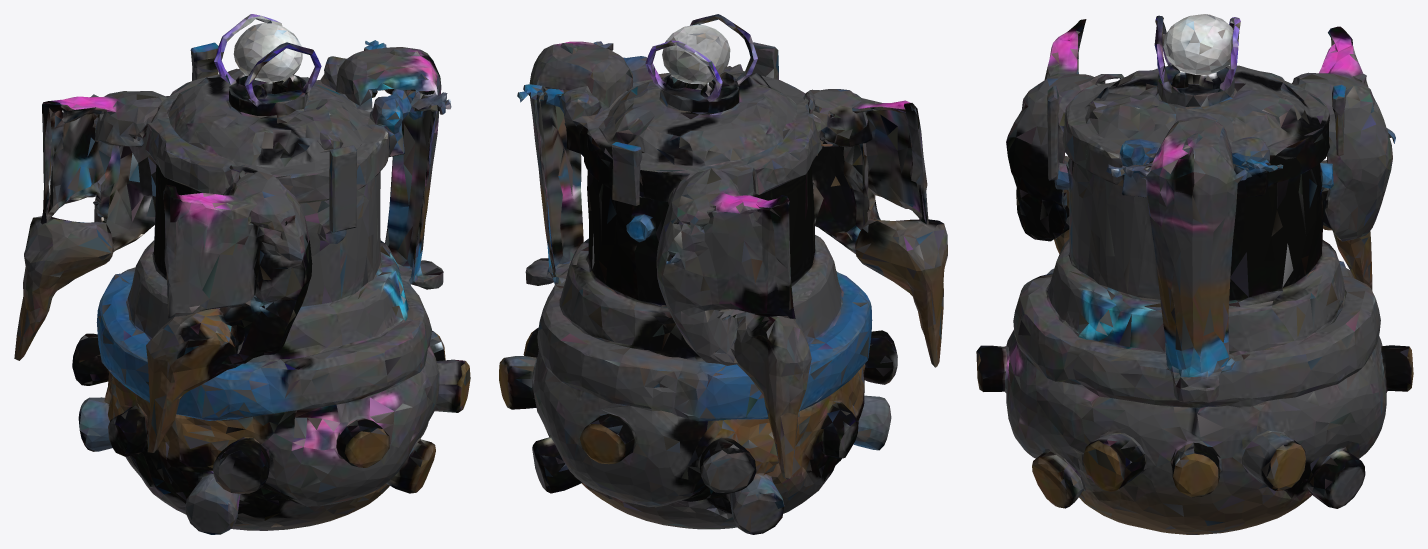
Rendered from jinx-granade-raw_preview.glb.
3 views of the same model, side by side, from view 1: azimuth 30°, elevation 25°; view 2: azimuth 150°, elevation 25°; view 3: azimuth 270°, elevation 25° (orthographic). The views are drawn at different scales.
Parts seen in each view (by area): view 1: geometry_0; view 2: geometry_0; view 3: geometry_0.
Boxes of the visible parts, bbox=[...] form: geometry_0: bbox=[14, 14, 470, 534]; geometry_0: bbox=[499, 14, 947, 534]; geometry_0: bbox=[976, 14, 1413, 534].
Bounding box in the file's own units: 1.52 × 1.99 × 1.59.
1 material, 1 textured.
